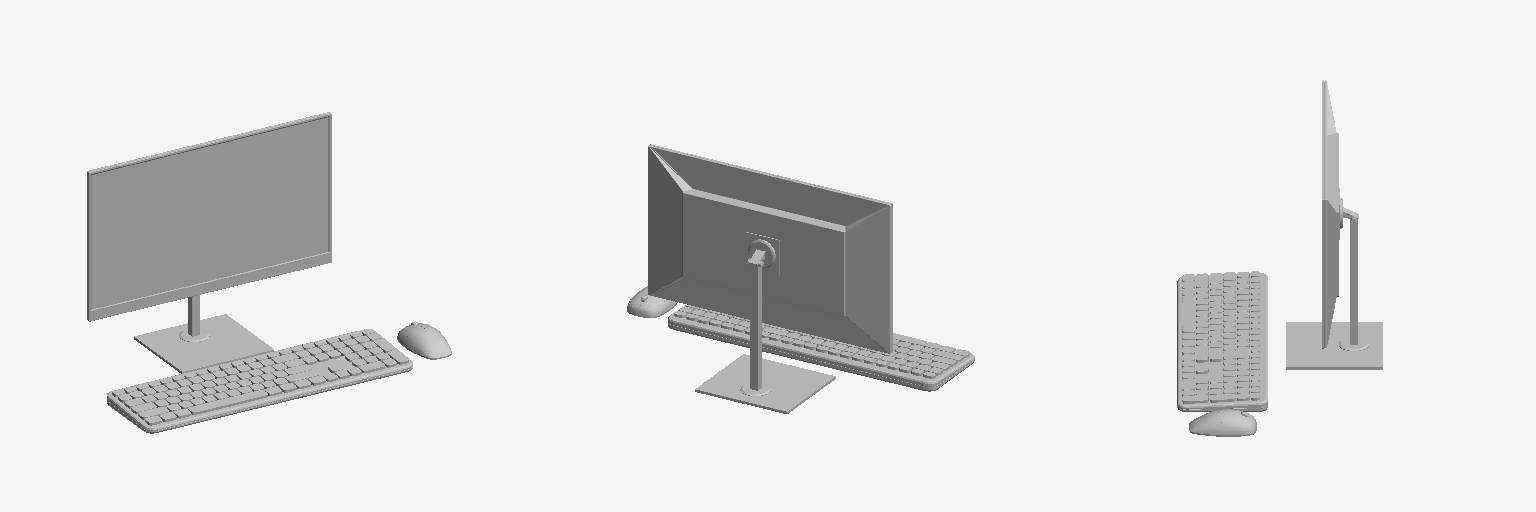
The model's file is compuNueva.obj.
The picture shows the model from 3 angles: view 1: azimuth 30°, elevation 25°; view 2: azimuth 150°, elevation 25°; view 3: azimuth 270°, elevation 25°; orthographic projection.
Parts seen in each view (by area): view 1: monitor, keys, keyboard, mouse; view 2: monitor, keys, keyboard, mouse; view 3: monitor, keys, keyboard, mouse.
Boxes of the visible parts, <box> form: monitor: <box>87,112,331,373</box>; keys: <box>112,329,408,425</box>; keyboard: <box>107,329,412,433</box>; mouse: <box>397,321,451,359</box>; monitor: <box>648,144,892,413</box>; keys: <box>674,305,969,378</box>; keyboard: <box>668,305,974,391</box>; mouse: <box>627,286,677,317</box>; monitor: <box>1286,81,1382,369</box>; keys: <box>1182,271,1259,403</box>; keyboard: <box>1177,273,1267,411</box>; mouse: <box>1189,409,1256,436</box>.
Size of the model in its own units: 0.3215 by 0.2 by 0.1803.